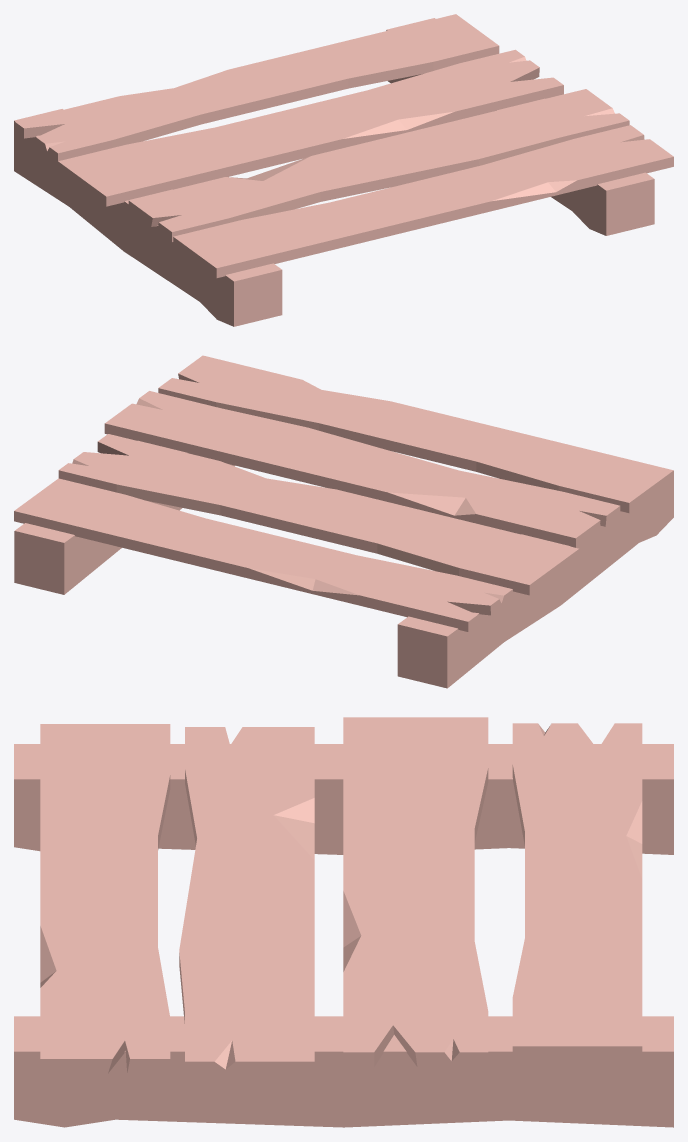
File: Mega_Asset_s_Pack_Cube_007.FBX
3 renders of one model, top to bottom at view 1: azimuth 30°, elevation 25°; view 2: azimuth 150°, elevation 25°; view 3: azimuth 270°, elevation 25°, orthographic. The views are drawn at different scales.
Parts seen in each view (by area): view 1: Mega_Asset_s_Pack_Cube_007; view 2: Mega_Asset_s_Pack_Cube_007; view 3: Mega_Asset_s_Pack_Cube_007.
Part boxes in pixels (left/top/right/bottom): Mega_Asset_s_Pack_Cube_007: left=14, top=14, right=673, bottom=326; Mega_Asset_s_Pack_Cube_007: left=14, top=355, right=673, bottom=688; Mega_Asset_s_Pack_Cube_007: left=14, top=717, right=673, bottom=1127.
Size of what is drawn, in the model's own units: 467 by 378 by 56.39.
